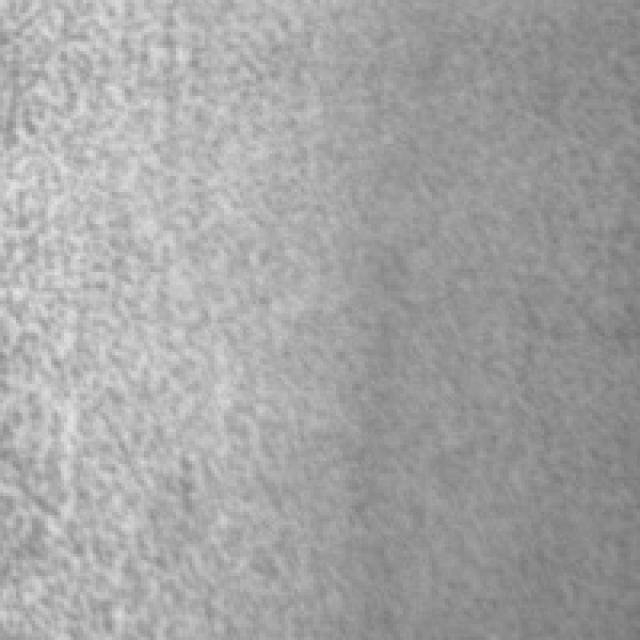pitted_surface: (301, 0, 637, 630), (3, 0, 313, 630)
